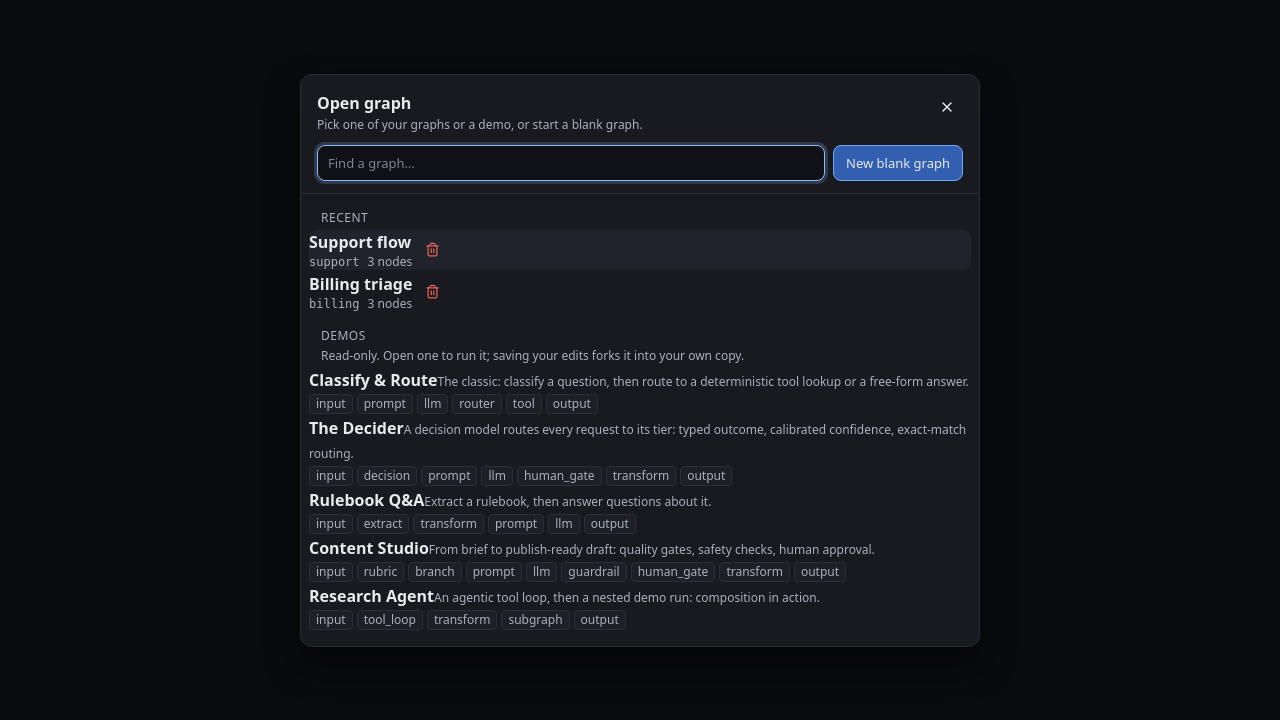
Test case: graph picker › shows a failed delete inline and keeps the list
This screenshot has width=1280, height=720.
Expected: the text "Billing triage" is shown, [309,272,412,294]
Click the button named "Delete Billing triage".
click(432, 292)  # box [416,276,448,308]
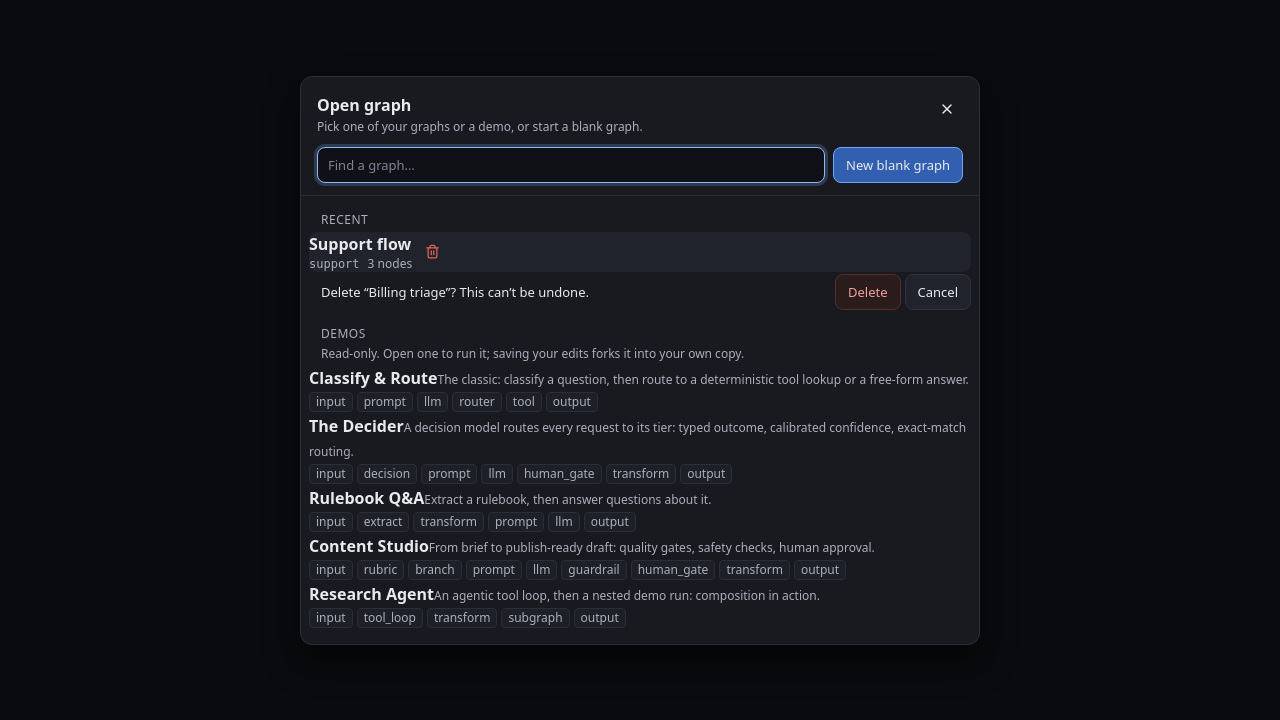
Click the button "Delete".
click(868, 292)  # box [835,274,900,310]
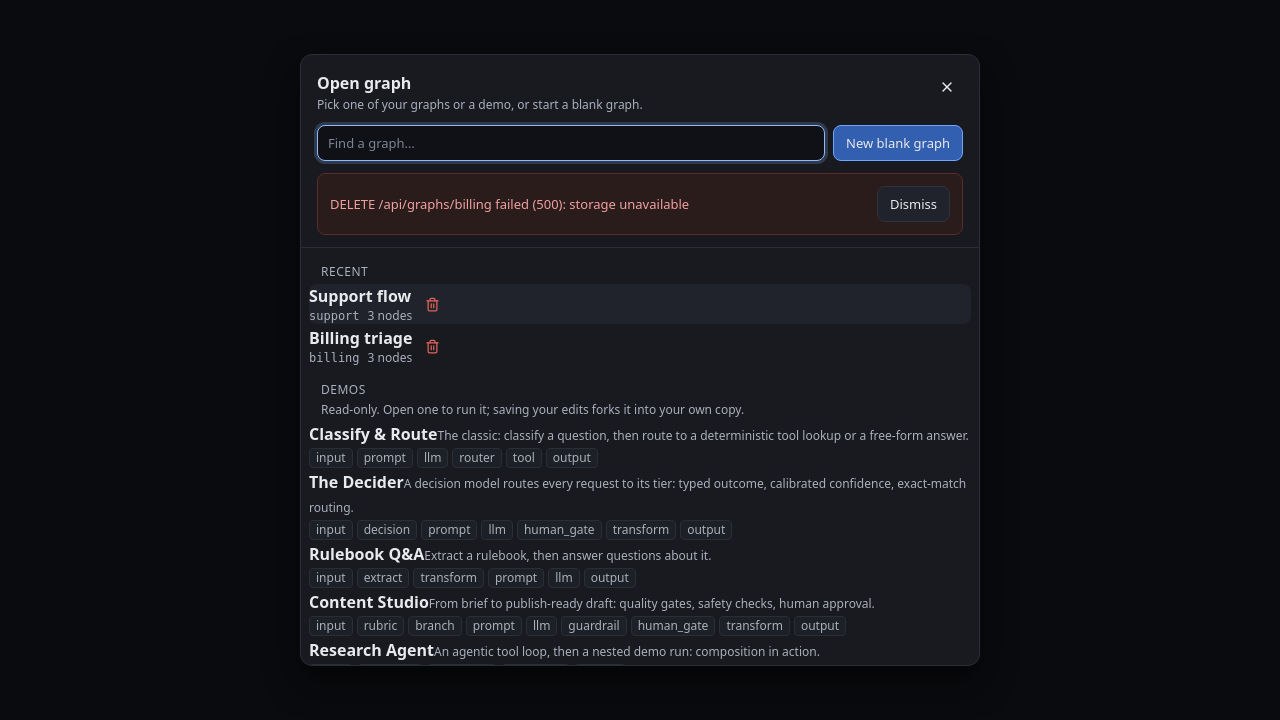
Result: the message shows "storage unavailable" at [330,195,689,213]
Result: the text "Billing triage" is shown at [309,327,412,349]
